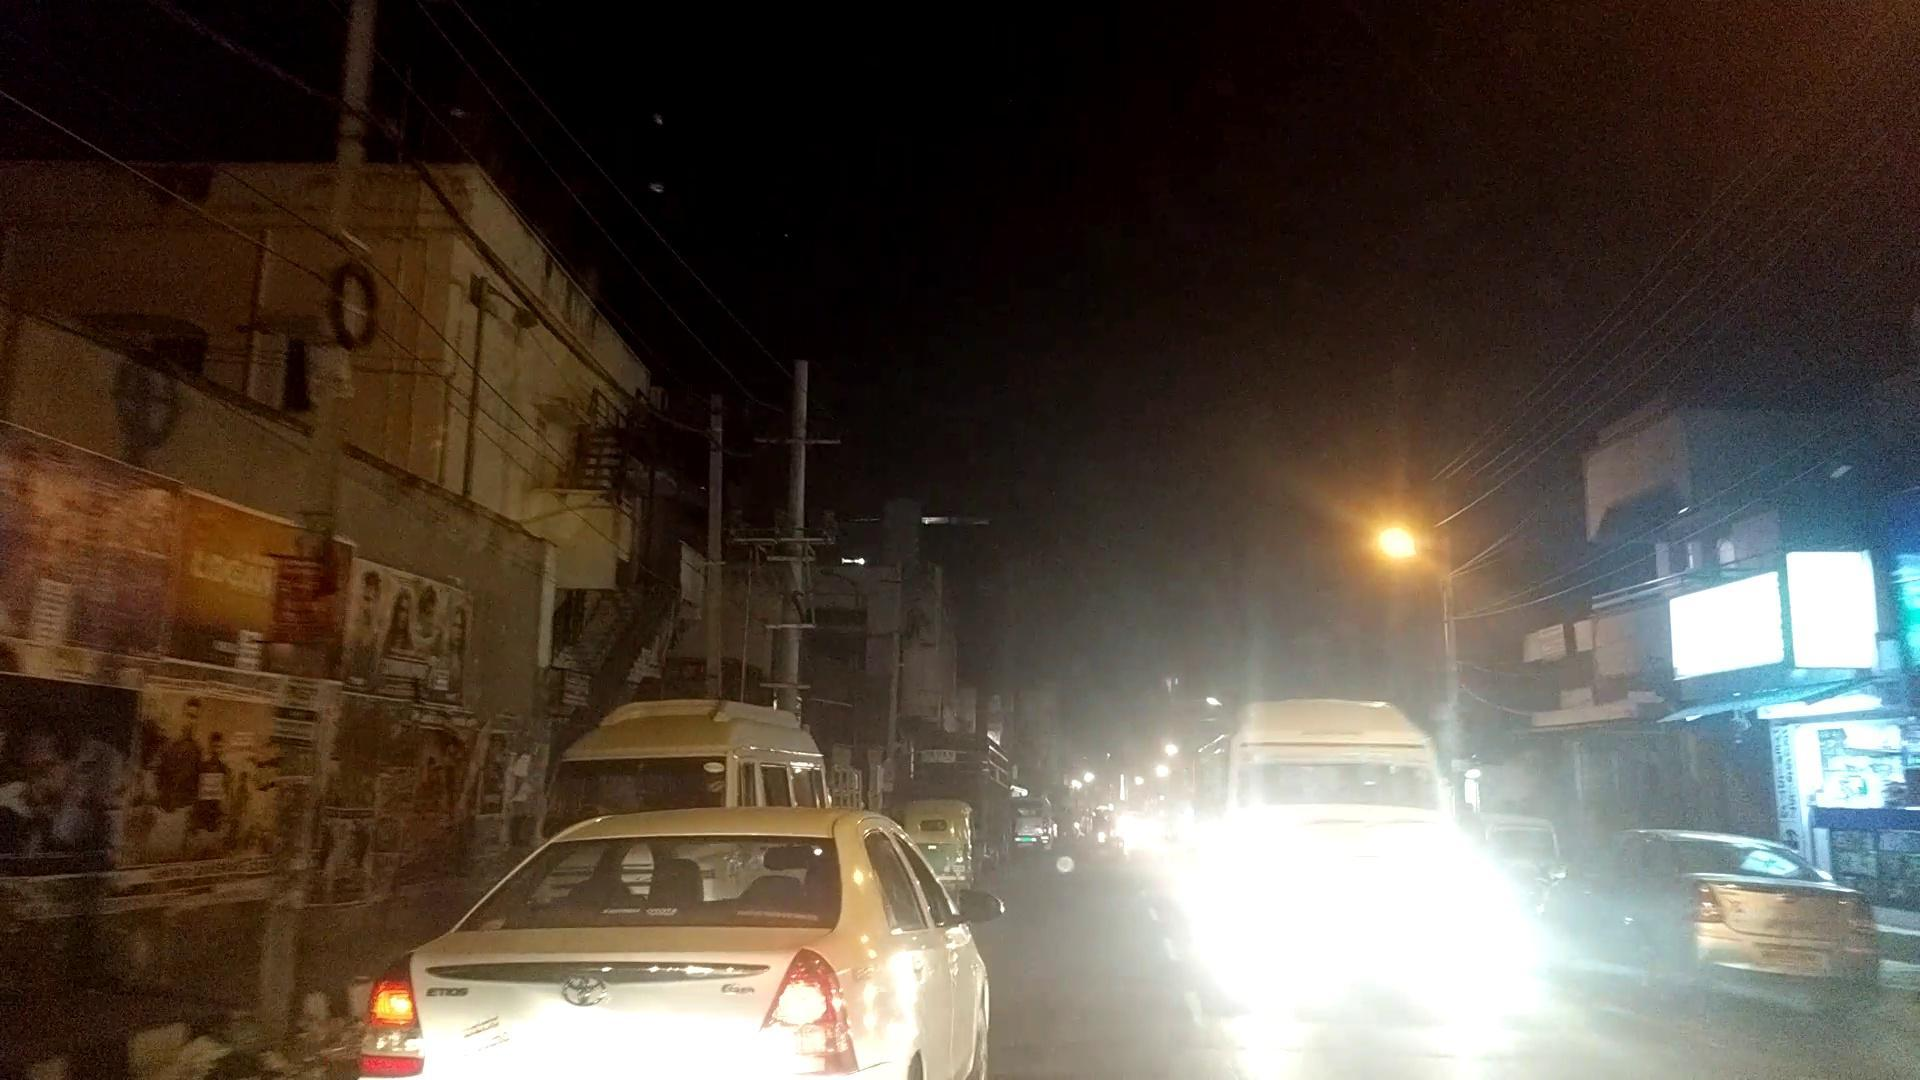on: (1379, 342, 1606, 707)
